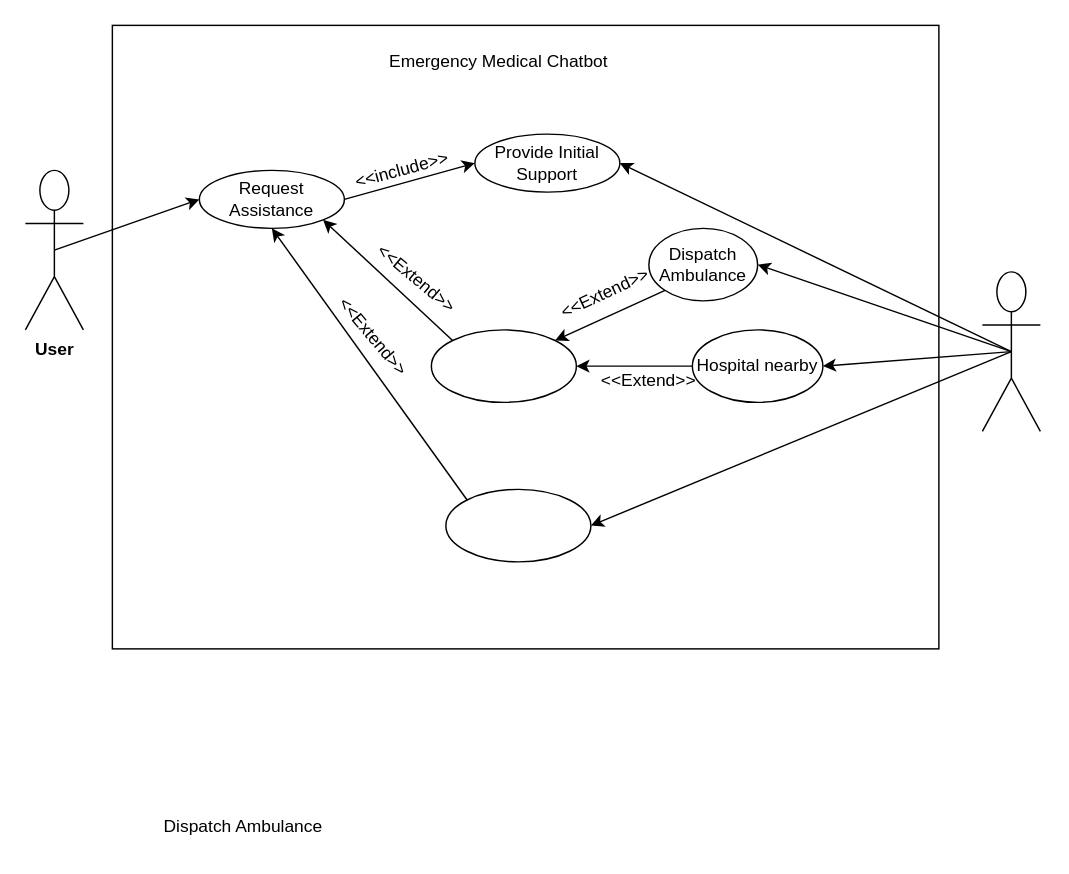
The diagram is 1069 pixels wide and 874 high, and some of its shapes have lost their labels. Each missing label, with the centre of its shape:
Chatbot: (1010,350)
Initiate Emergency Services: (503,365)
Provide Non-Emergency Help: (517,525)
